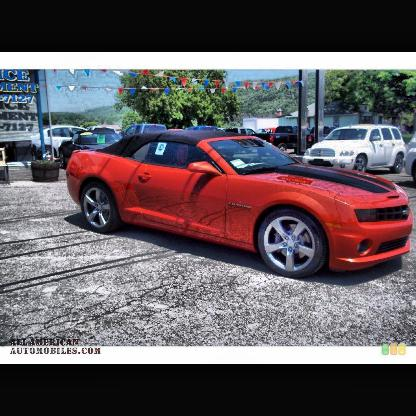Chevrolet Camaro Convertible 2012: (65, 126, 416, 282)
